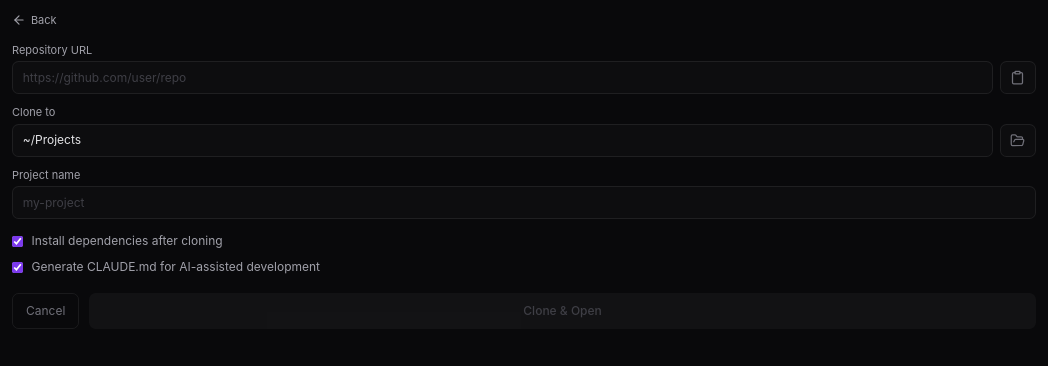
Test: CloneForm › shows progress view during cloning
This screenshot has width=1048, height=366.
Type "https://github.com/user/repo.git" into the field with placeholder "https://github.com/user/repo" at (502, 78), box top-left (12, 61), bottom-right (993, 94)
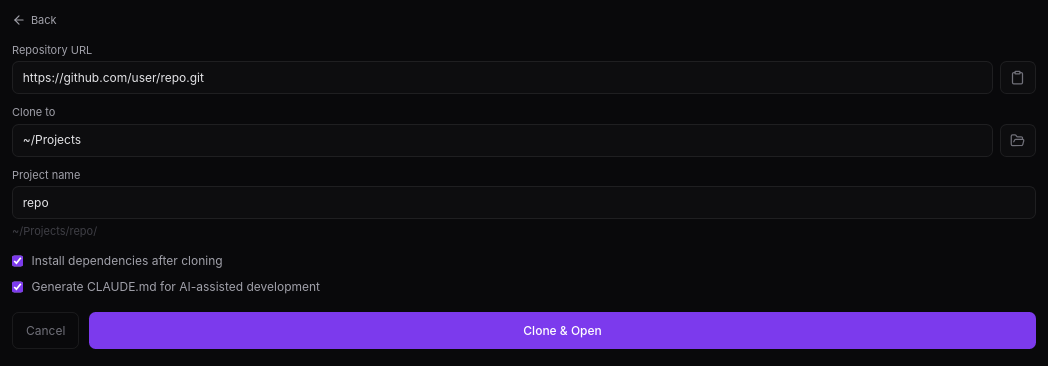
Type "/tmp/test" into the field with placeholder "~/Projects" at (502, 140), box top-left (12, 124), bottom-right (993, 157)
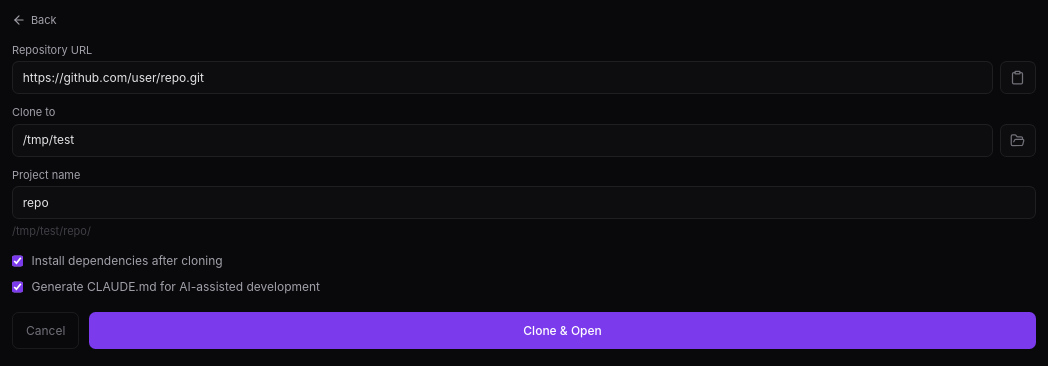
Click the button "Clone & Open" at (563, 331), box top-left (89, 312), bottom-right (1036, 349)
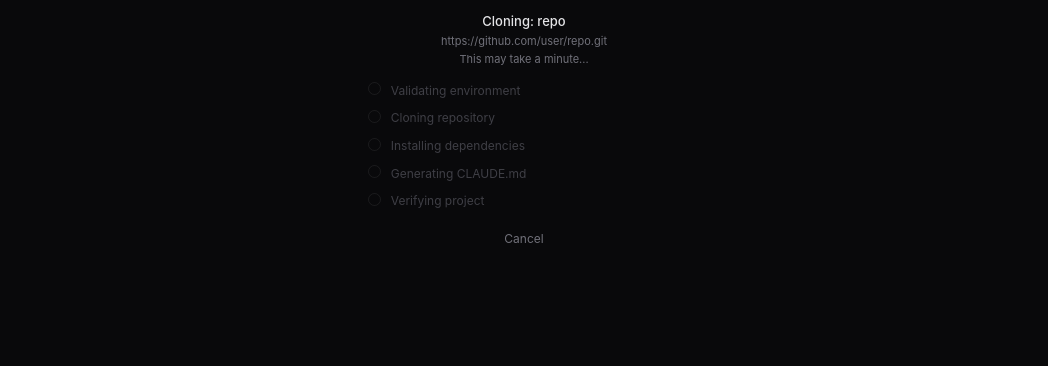
expect the heading "Cloning: repo" is shown: met, box top-left (482, 13), bottom-right (566, 29)
expect the text "Cloning repository" is shown: met, box top-left (391, 110), bottom-right (495, 125)
expect the text "Installing dependencies" is shown: met, box top-left (391, 138), bottom-right (525, 153)
